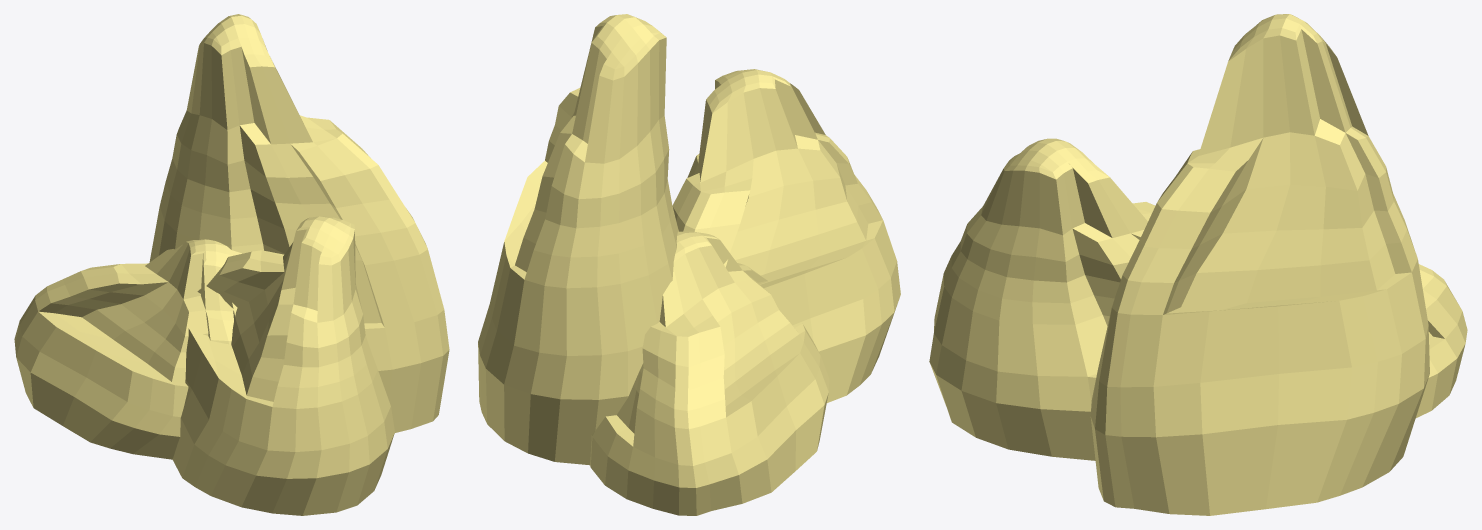
The model's file is BigRock03.fbx.
3 renders of one model, left to right at view 1: azimuth 30°, elevation 25°; view 2: azimuth 150°, elevation 25°; view 3: azimuth 270°, elevation 25°, orthographic. The views are drawn at different scales.
Visible parts, largest first — view 1: Plane.051; view 2: Plane.051; view 3: Plane.051.
Part boxes in pixels (x1,y1,x2,y2): Plane.051: (14,14,449,515); Plane.051: (478,14,900,515); Plane.051: (929,14,1467,515).
Bounding box in the file's own units: 5649 × 6411 × 7411.
